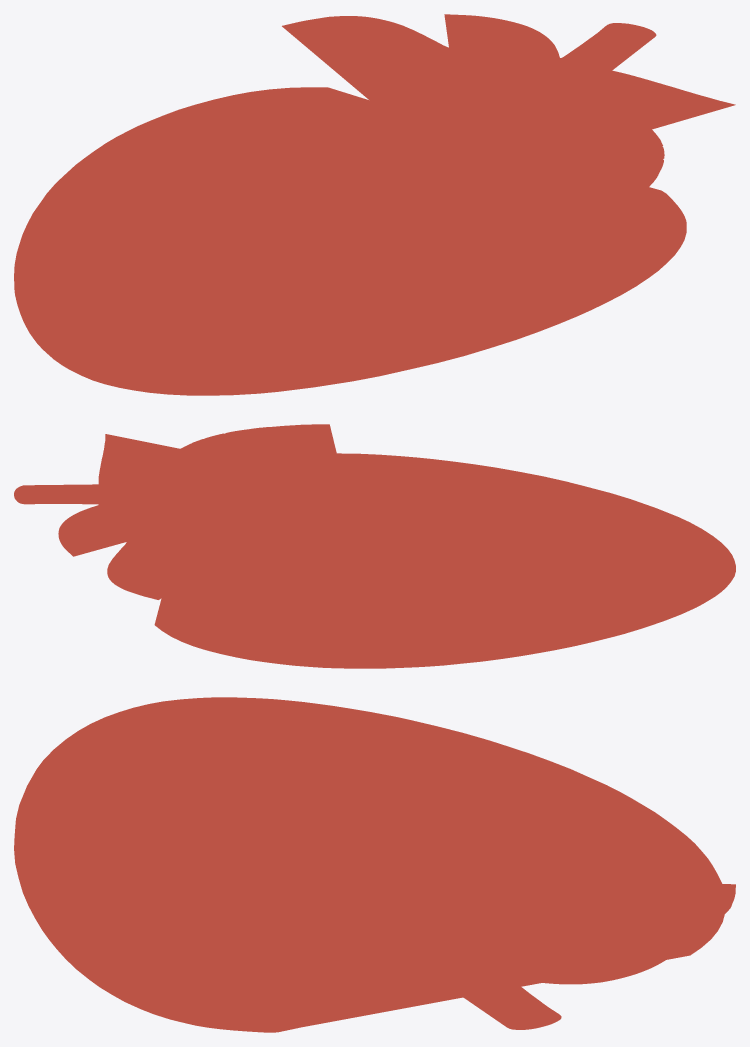
The model's file is StrawberryMesh.fbx.
The picture shows the model from 3 angles, top to bottom: view 1: azimuth 30°, elevation 25°; view 2: azimuth 150°, elevation 25°; view 3: azimuth 270°, elevation 25°; orthographic projection. The views are drawn at different scales.
Parts seen in each view (by area): view 1: Plane; view 2: Plane; view 3: Plane.
Part boxes in pixels (x1,y1,x2,y2): Plane: (14,14,735,395); Plane: (14,424,735,668); Plane: (14,697,735,1032).
Bounding box in the file's own units: 114 × 7.78 × 88.81.
